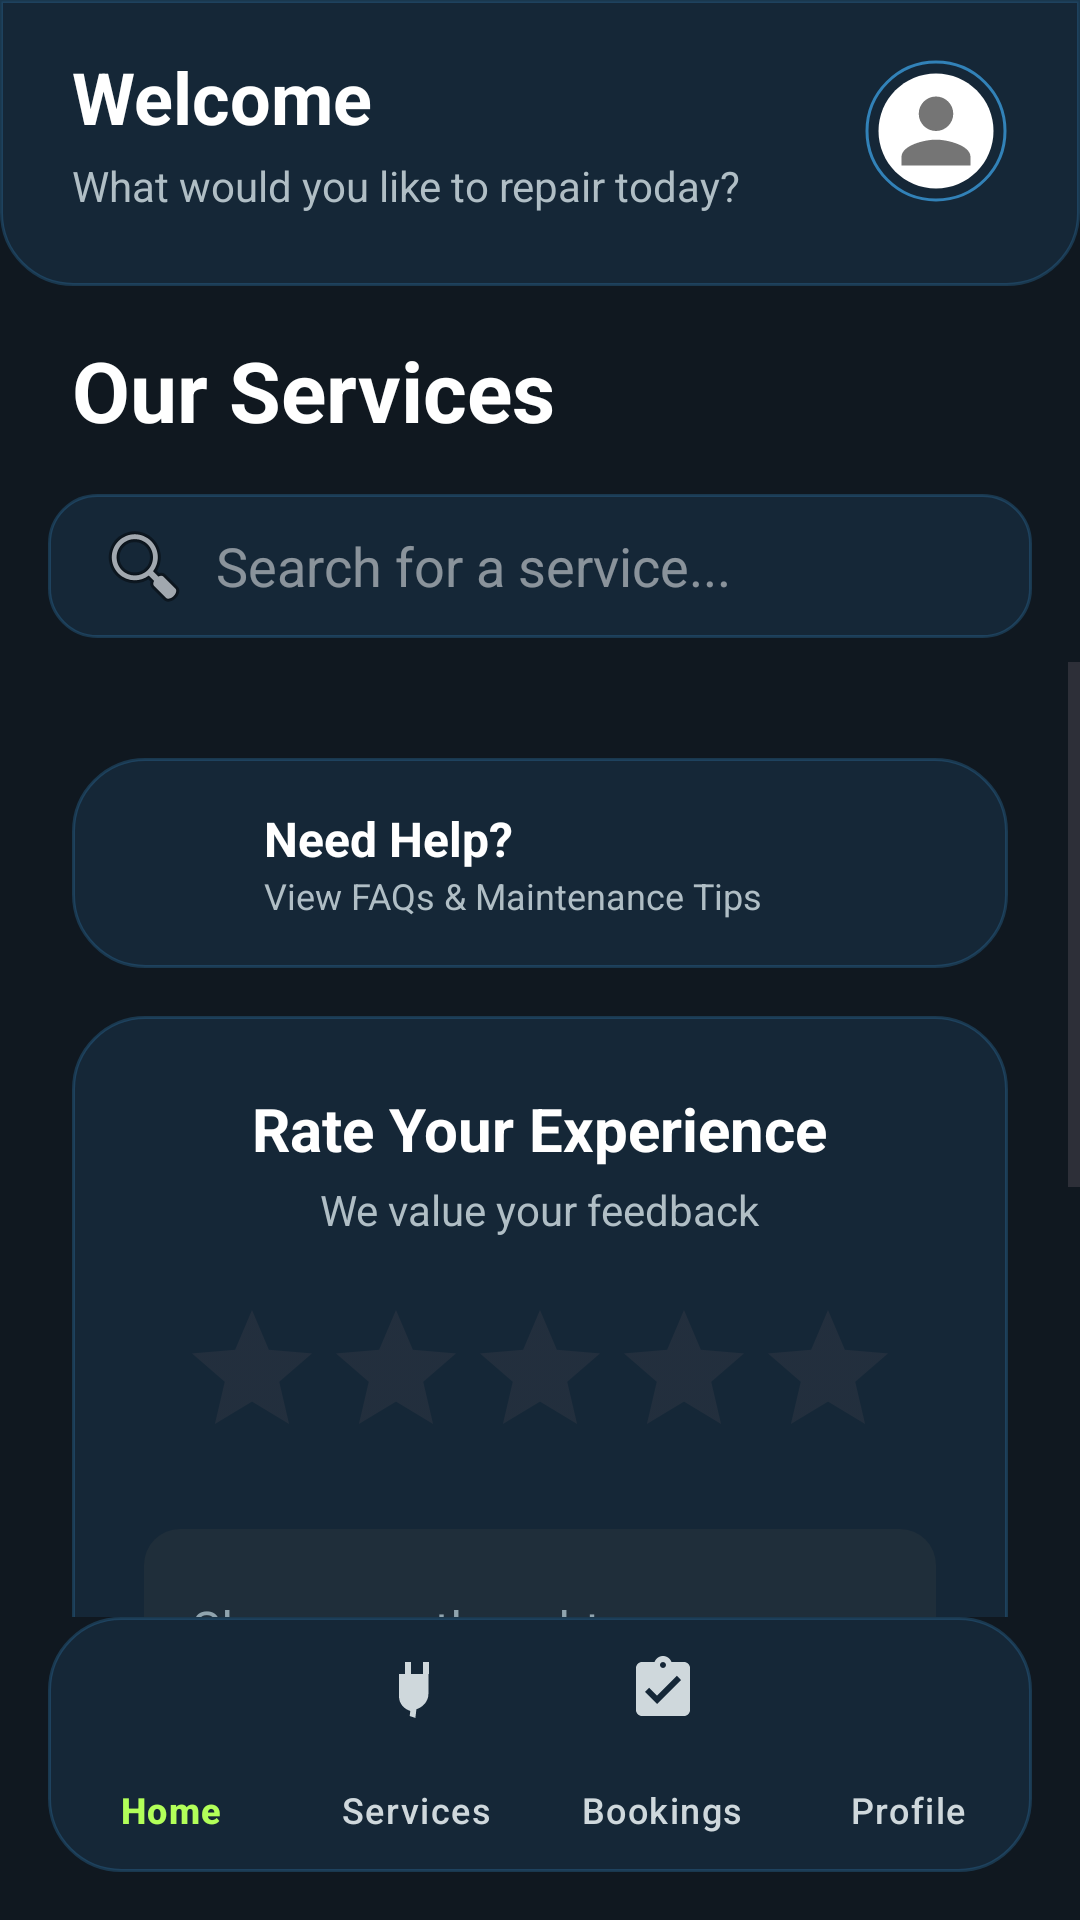

Where icons sit on this 1080 x 1920 app screen, as box=[x1, y1, x2, y2]:
user: box=[865, 60, 1007, 202]
